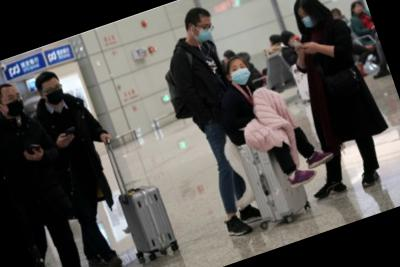with_mask: (39, 79, 67, 108), (192, 18, 218, 45), (227, 59, 253, 86), (299, 7, 319, 30)
without_mask: (355, 3, 365, 14)
